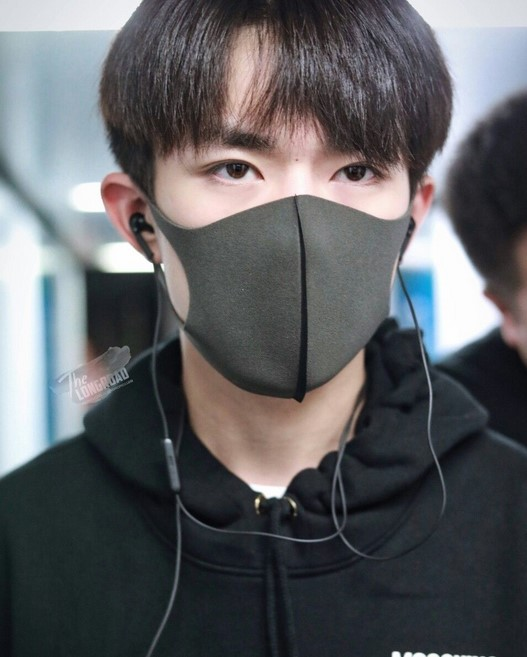face_with_mask: (93, 3, 455, 410)
